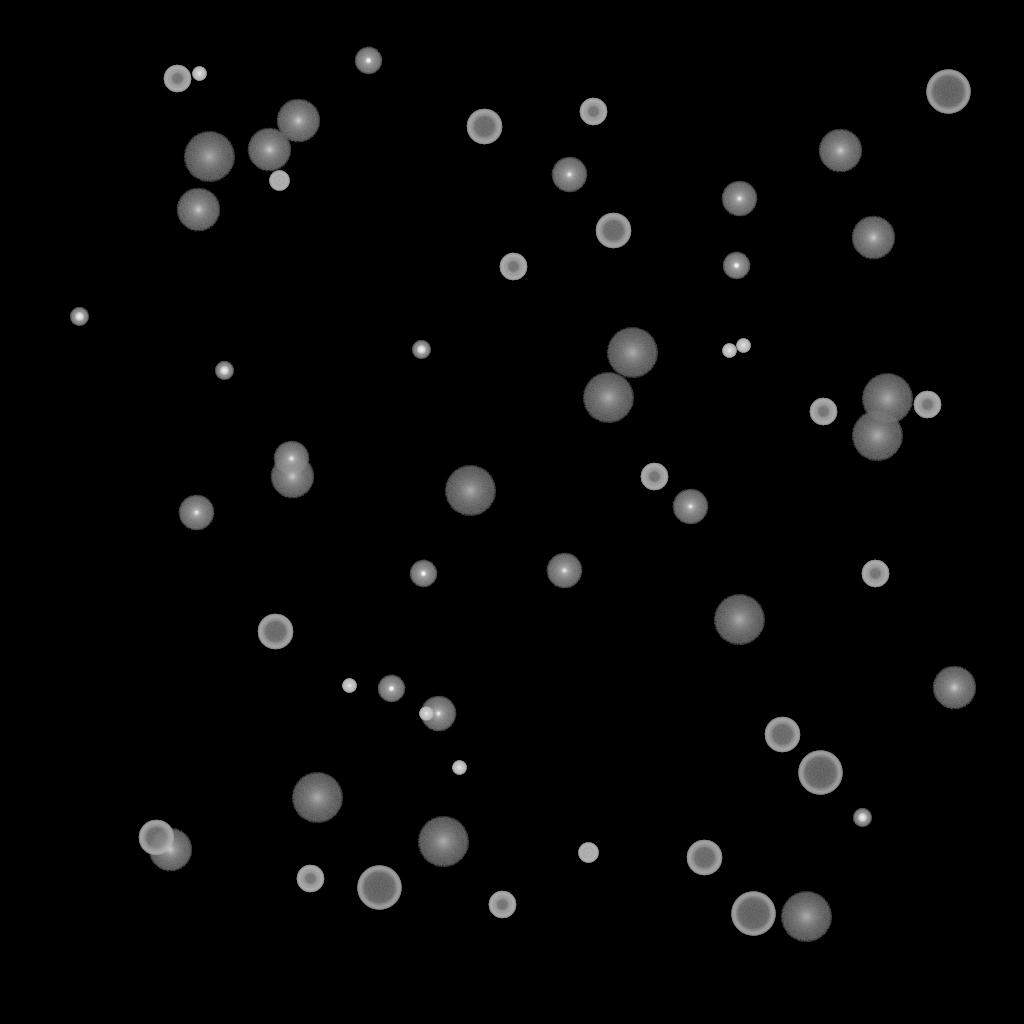depth:-10: (409, 560, 437, 588), (354, 47, 382, 75), (722, 252, 750, 280), (377, 675, 405, 703)
depth:-20: (853, 809, 871, 827), (215, 362, 233, 380), (70, 308, 88, 326), (412, 341, 430, 359)
depth:-30: (452, 761, 466, 775), (722, 344, 736, 358), (419, 707, 433, 721), (192, 67, 206, 81), (342, 679, 356, 693), (736, 339, 750, 353)
depth:-40: (269, 171, 289, 191), (578, 843, 598, 863)
depth:-50: (499, 253, 527, 281), (913, 391, 941, 419), (579, 98, 607, 126), (488, 891, 516, 919), (296, 865, 324, 893), (861, 560, 889, 588), (809, 398, 837, 426), (163, 65, 191, 93), (640, 463, 668, 491)
depth:-60: (138, 820, 174, 856), (764, 717, 800, 753), (686, 840, 722, 876), (595, 213, 631, 249), (466, 109, 502, 145), (257, 614, 293, 650)
depth:-70: (357, 866, 401, 910), (731, 892, 775, 936), (926, 70, 970, 114), (798, 751, 842, 795)
depth:0: (420, 696, 456, 732), (273, 441, 309, 477), (672, 489, 708, 525), (721, 181, 757, 217), (546, 553, 582, 589), (178, 495, 214, 531), (551, 157, 587, 193)
depth:10: (276, 99, 320, 143), (270, 455, 314, 499), (176, 188, 220, 232), (148, 828, 192, 872), (818, 129, 862, 173), (247, 128, 291, 172), (851, 216, 895, 260), (932, 666, 976, 710)
depth:20: (606, 328, 658, 378), (861, 374, 913, 424), (713, 595, 765, 645), (582, 373, 634, 423), (291, 773, 343, 823), (851, 411, 903, 461), (780, 892, 832, 942), (417, 817, 469, 867), (183, 132, 235, 182), (444, 466, 496, 516)
